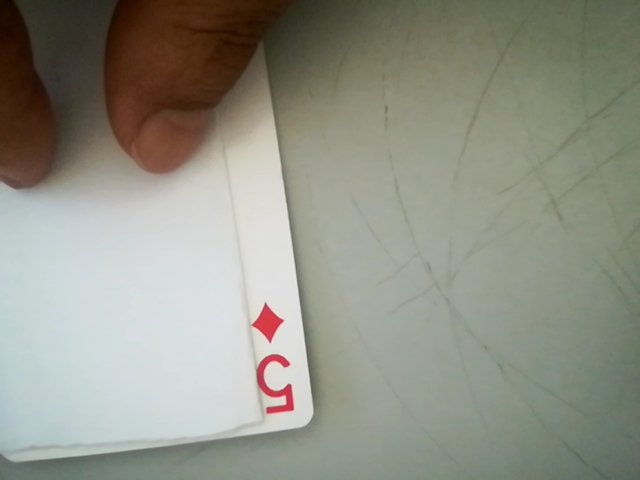fk 5: (235, 295, 313, 428)
